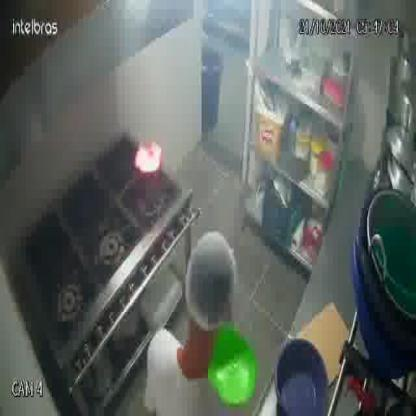fire: (129, 137, 167, 177)
